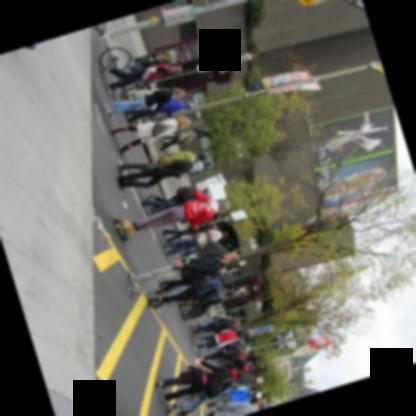backpack: (192, 279, 221, 295), (141, 57, 168, 70), (209, 319, 226, 330), (176, 186, 193, 196), (197, 222, 210, 231)
handbag: (205, 377, 232, 399), (131, 88, 172, 102), (150, 122, 177, 136), (185, 196, 209, 204)
